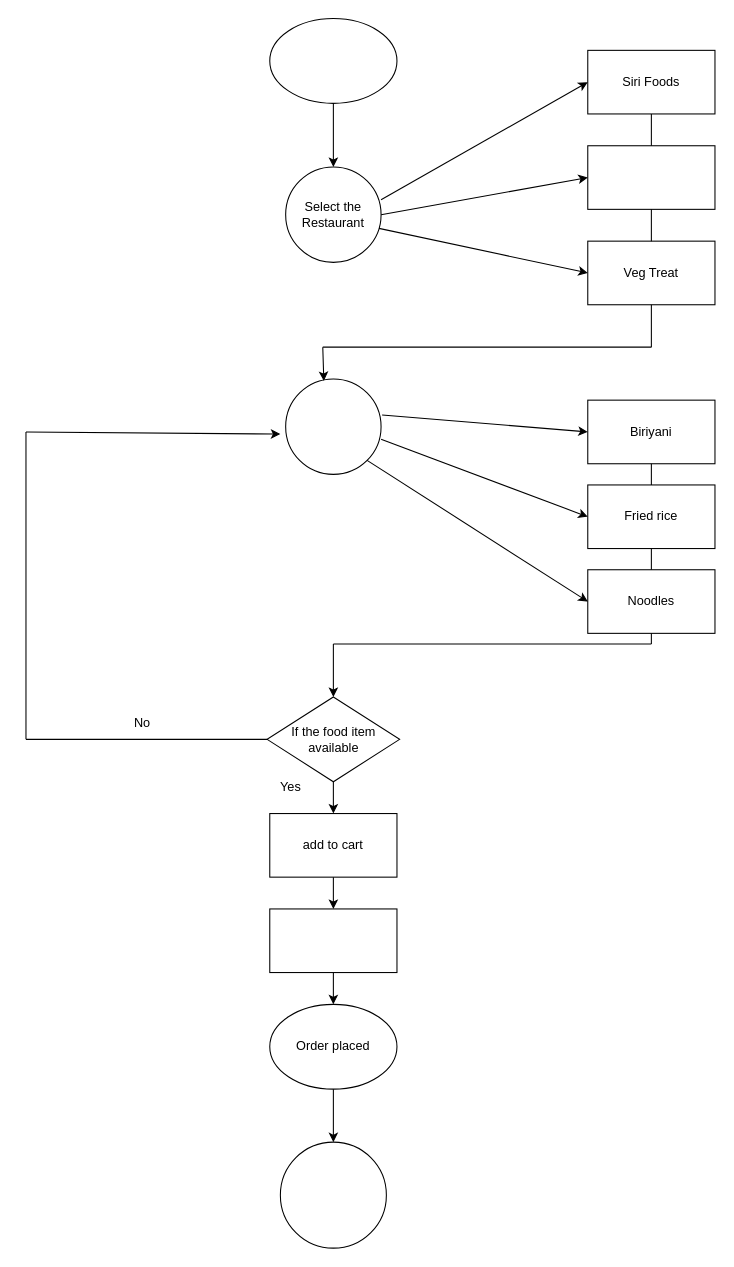
Some shapes in this 734 by 1267 pixel diagram are drawn without their labels. The centre of each missing label's shape, as x and y in pixels:
Cocanada: the point at 651,177
Feedback: the point at 332,1194
Open the app: the point at 333,60
Processed by payment: the point at 333,940
Select the food item: the point at 333,426
